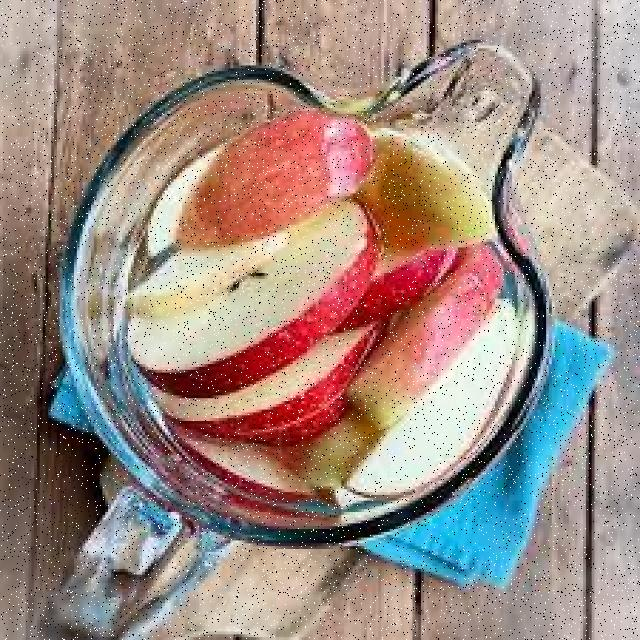Apple: (130, 210, 380, 392), (352, 250, 507, 432), (176, 118, 374, 254), (345, 342, 515, 489), (362, 130, 504, 255), (159, 362, 336, 439), (185, 452, 304, 508)
